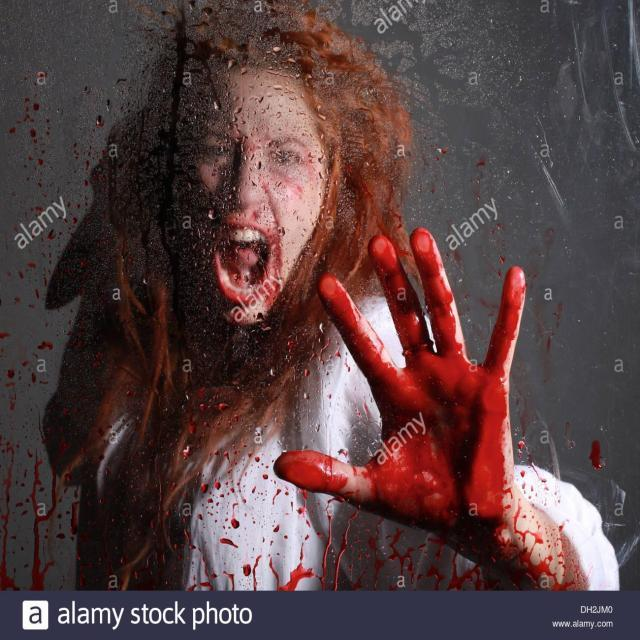flood: (342, 242, 502, 549)
